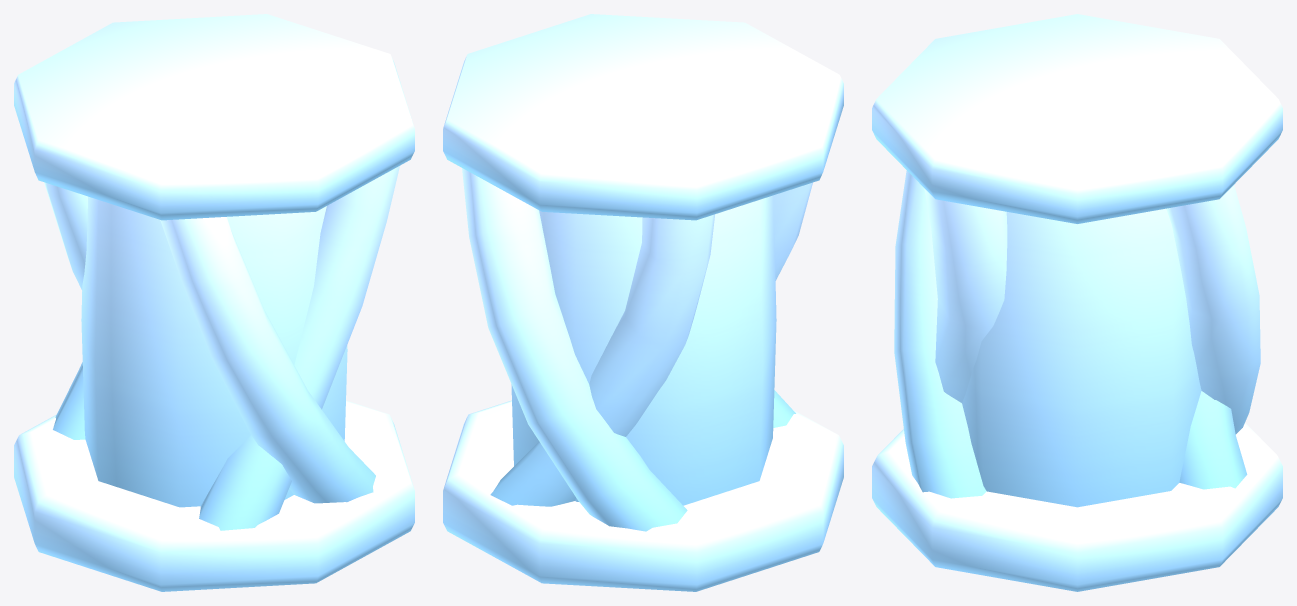
File: steel_grip_030.glb
The picture shows the model from 3 angles, left to right: view 1: azimuth 30°, elevation 25°; view 2: azimuth 150°, elevation 25°; view 3: azimuth 270°, elevation 25°; orthographic projection.
Visible parts, largest first — view 1: steel_grip_030; view 2: steel_grip_030; view 3: steel_grip_030.
Part boxes in pixels (x1,y1,x2,y2): steel_grip_030: (14, 14, 414, 591); steel_grip_030: (443, 14, 843, 591); steel_grip_030: (872, 14, 1282, 591).
Bounding box in the file's own units: 2.89 × 3.2 × 2.89.
Materials: 1 (1 with a texture image).
